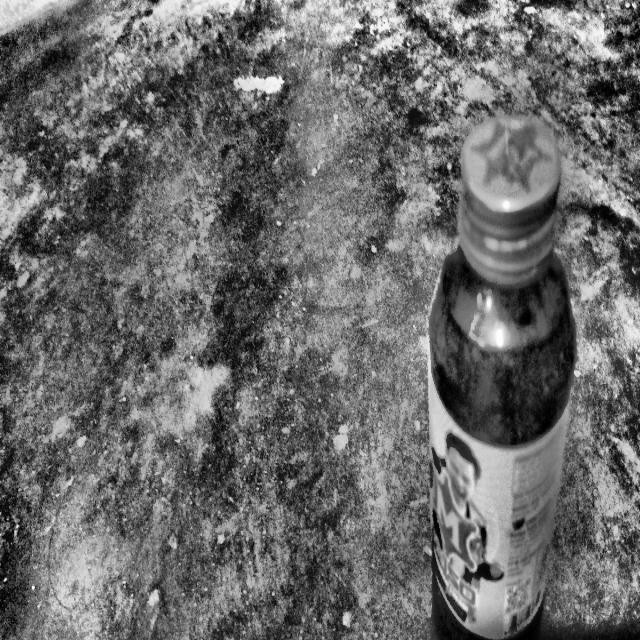Bottle: (426, 112, 576, 636)
